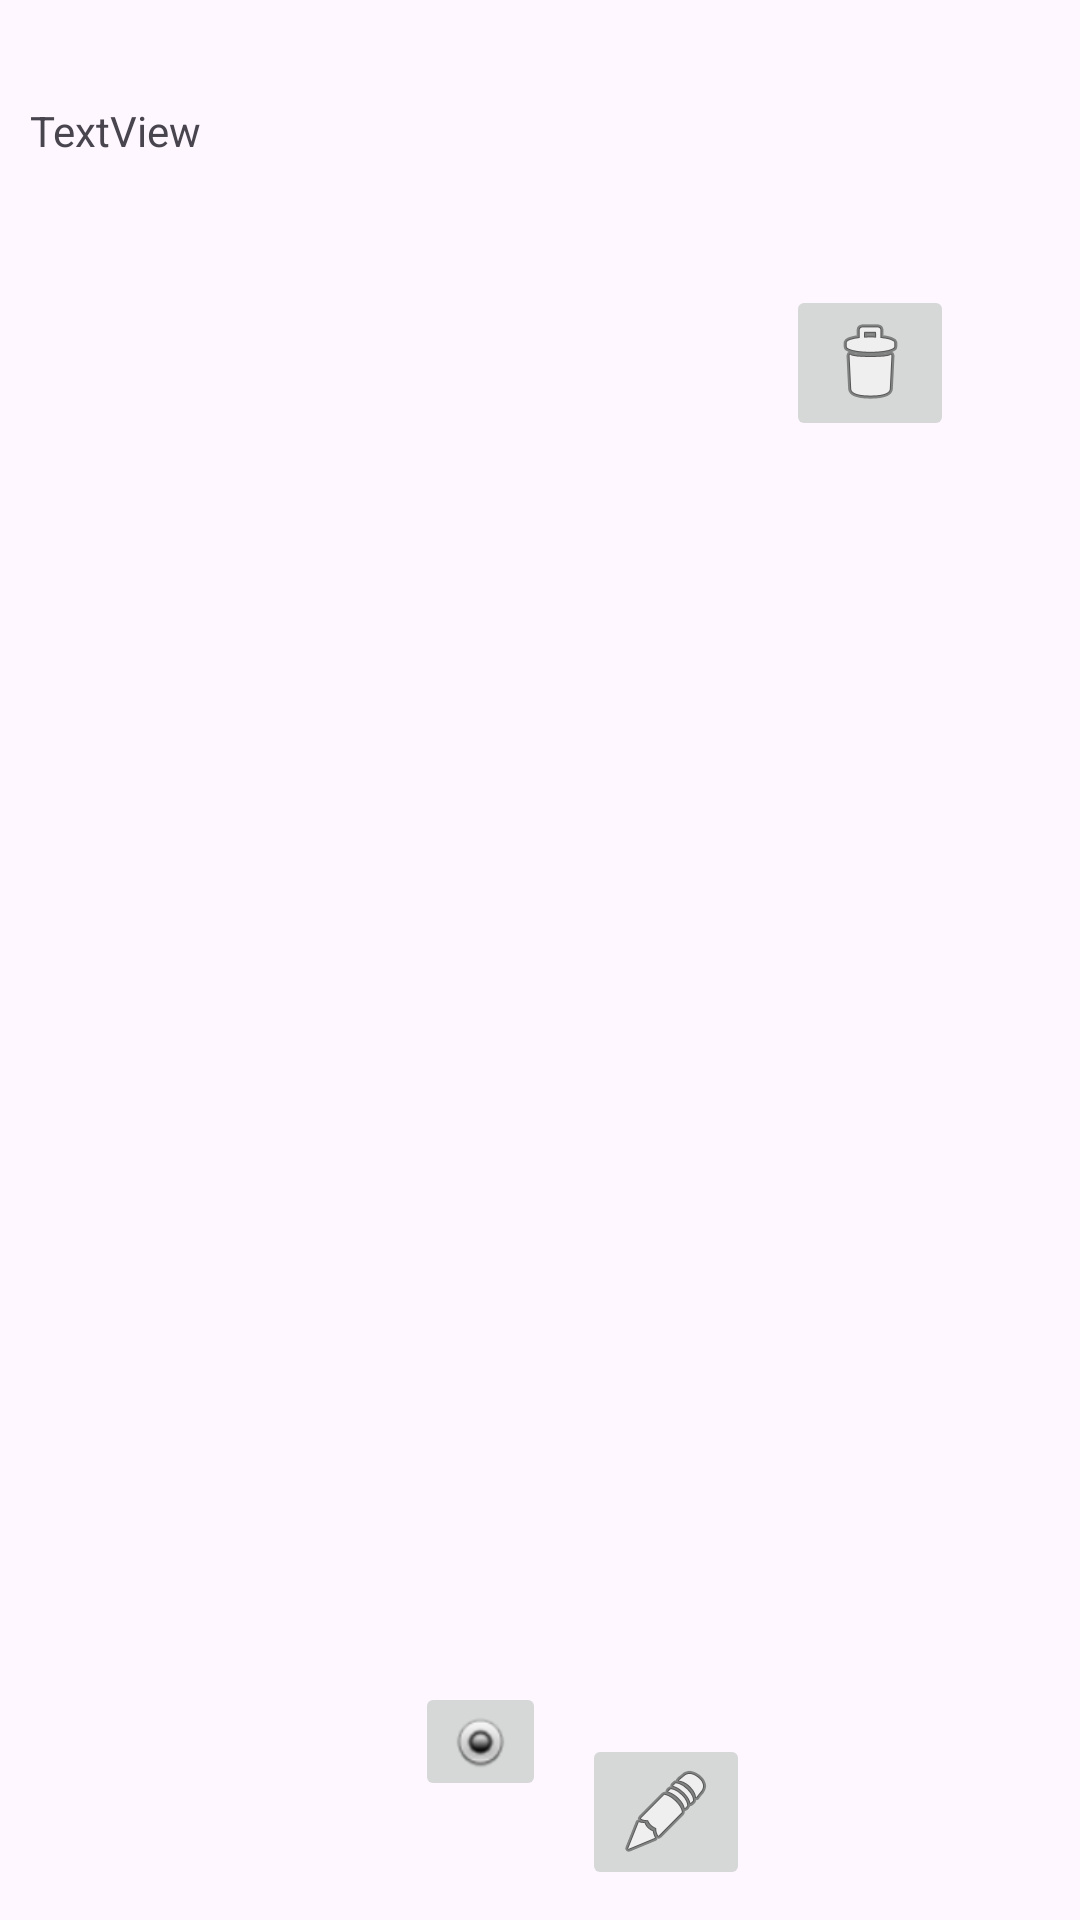

Screen size 1080w x 1920h. Icon name, then its center in pixels as [x,y]:
delete: [870,363]
edit: [666,1812]
